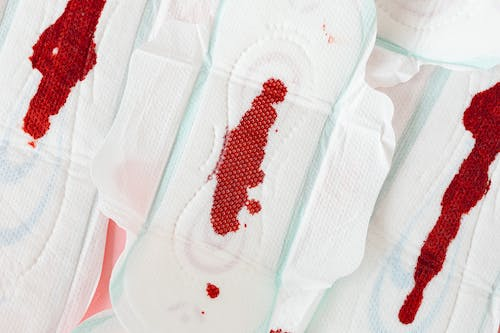blood: (397, 79, 500, 325), (199, 75, 288, 316), (20, 0, 111, 151), (321, 24, 336, 45), (268, 326, 287, 333)
